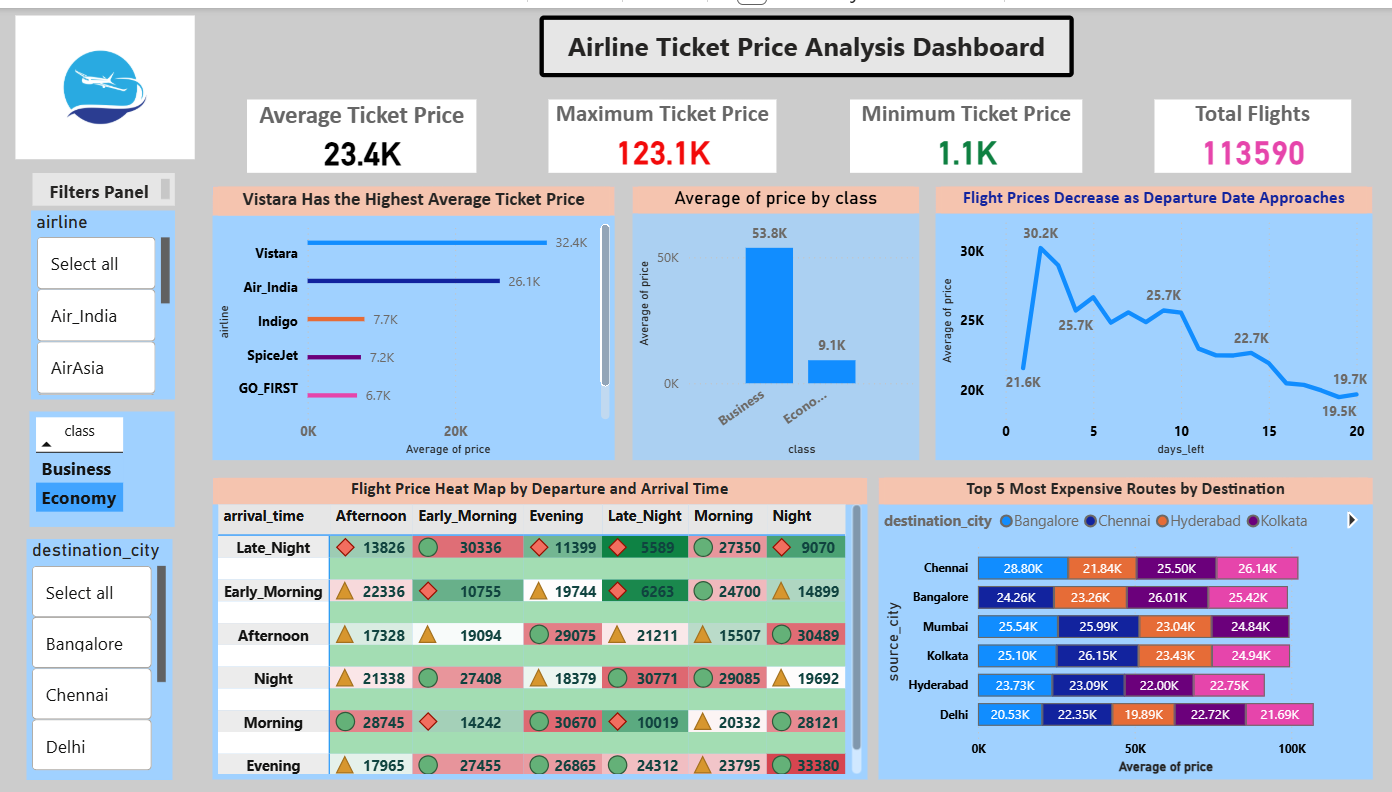

This screenshot's page, from the dashboard's own definition file:
{"tool":"powerbi","page":{"name":"Airline Price Prediction Analysis Dashboard","canvas":[1280,720],"ordinal":0},"visuals":[{"type":"card","title":"Average Ticket Price","fields":{"Values":["Avg(Clean_Dataset.price)"]},"box":[228.7,84,210.8,67.5],"z":0},{"type":"card","title":"Maximum Ticket Price","fields":{"Values":["Max(Clean_Dataset.price)"]},"box":[505.6,84,209.4,67.5],"z":1000},{"type":"card","title":"Minimum Ticket Price","fields":{"Values":["Min(Clean_Dataset.price)"]},"box":[782.5,84,213.5,67.5],"z":2000},{"type":"card","title":"Total Flights","fields":{"Values":["CountNonNull(Clean_Dataset.flight)"]},"box":[1062.1,84,180.5,67.5],"z":3000},{"type":"clusteredBarChart","title":"Vistara Has the Highest Average Ticket Price","fields":{"Category":["Clean_Dataset.airline"],"Y":["Avg(Clean_Dataset.price)"],"Series":["Clean_Dataset.airline"]},"box":[196.8,163.5,369.5,251.4],"z":4000},{"type":"lineChart","title":"Flight Prices Decrease as Departure Date Approaches","fields":{"Category":["Clean_Dataset.days_left"],"Y":["Avg(Clean_Dataset.price)"]},"box":[861.6,163.5,401.3,251.4],"z":5000},{"type":"pivotTable","title":"Flight Price Heat Map by Departure and Arrival Time","fields":{"Columns":["Clean_Dataset.departure_time"],"Values":["Avg(Clean_Dataset.price)"],"Rows":["Clean_Dataset.arrival_time"]},"box":[196.8,431.5,601.1,277.1],"z":6000},{"type":"barChart","title":"Top 5 Most Expensive Routes by Destination","fields":{"Category":["Clean_Dataset.source_city"],"Y":["Avg(Clean_Dataset.price)"],"Series":["Clean_Dataset.destination_city"]},"box":[808.6,431.5,454.3,277.1],"z":7000},{"type":"textbox","box":[497.3,6.9,490.4,56.5],"z":8000},{"type":"advancedSlicerVisual","fields":{"Values":["Clean_Dataset.airline"]},"box":[30.3,186,132.2,173.6],"z":9000},{"type":"tableEx","fields":{"Values":["Clean_Dataset.class"]},"box":[28.9,370.6,133.6,106.1],"z":10000},{"type":"advancedSlicerVisual","fields":{"Values":["Clean_Dataset.destination_city"]},"box":[26.2,487.7,133.6,220.4],"z":11000},{"type":"clusteredColumnChart","fields":{"Category":["Clean_Dataset.class"],"Y":["Avg(Clean_Dataset.price)"]},"box":[583,163.5,263.5,251.4],"z":12000},{"type":"image","box":[0,7.6,196.8,131.7],"z":13000},{"type":"textbox","box":[31.7,151.5,130.9,30.3],"z":14000}]}

Visuals, with their boxes in screenshot pixels (x1, y1, x2, y2), scaled from the page's 1280x720 canvas onto the 1392x792 screenshot:
"Average Ticket Price" card: (249,92,478,167)
"Maximum Ticket Price" card: (550,92,778,167)
"Minimum Ticket Price" card: (851,92,1083,167)
"Total Flights" card: (1155,92,1351,167)
"Vistara Has the Highest Average Ticket Price" clusteredBarChart: (214,180,616,456)
"Flight Prices Decrease as Departure Date Approaches" lineChart: (937,180,1373,456)
"Flight Price Heat Map by Departure and Arrival Time" pivotTable: (214,475,868,779)
"Top 5 Most Expensive Routes by Destination" barChart: (879,475,1373,779)
textbox: (541,8,1074,70)
advancedSlicerVisual - Clean_Dataset.airline: (33,205,177,396)
tableEx - Clean_Dataset.class: (31,408,177,524)
advancedSlicerVisual - Clean_Dataset.destination_city: (28,536,174,779)
clusteredColumnChart - Clean_Dataset.class x Avg(Clean_Dataset.price): (634,180,921,456)
image: (0,8,214,153)
textbox: (34,167,177,200)
